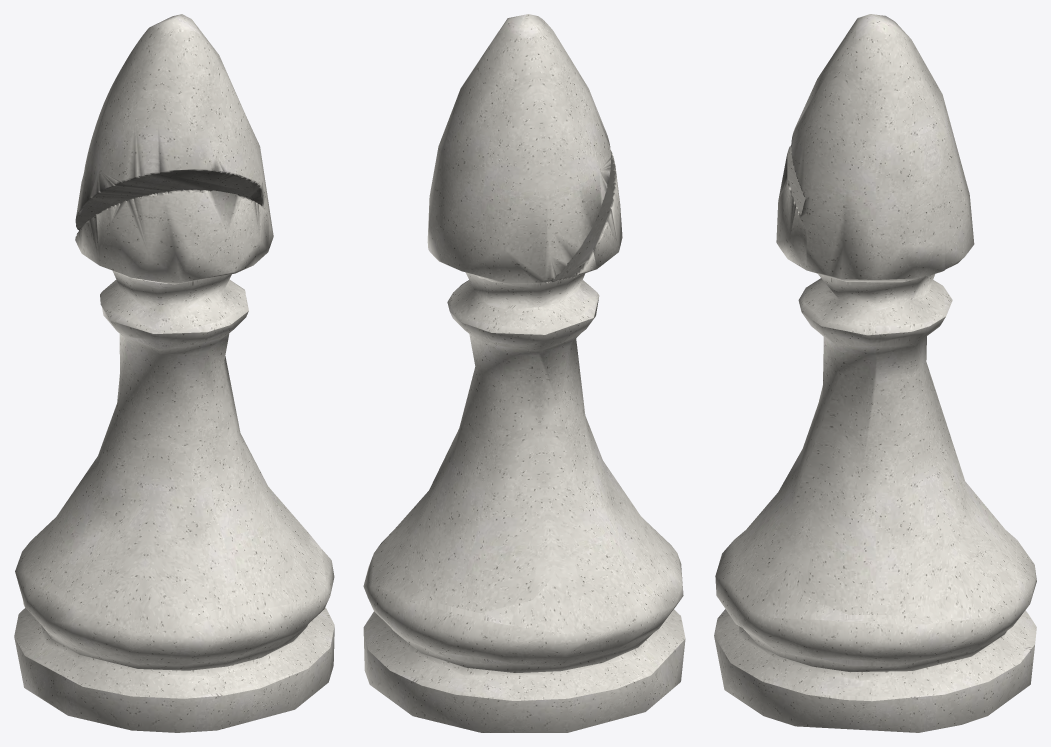
File: strelec_bila.glb
The picture shows the model from 3 angles, left to right: view 1: azimuth 30°, elevation 25°; view 2: azimuth 150°, elevation 25°; view 3: azimuth 270°, elevation 25°; orthographic projection.
Parts seen in each view (by area): view 1: strelec_bila; view 2: strelec_bila; view 3: strelec_bila.
Boxes of the visible parts, bbox=[...] form: strelec_bila: bbox=[14, 14, 334, 732]; strelec_bila: bbox=[363, 14, 685, 732]; strelec_bila: bbox=[714, 14, 1036, 732].
Size of the model in its own units: 0.0335 by 0.076 by 0.0335.
1 material, 1 textured.
